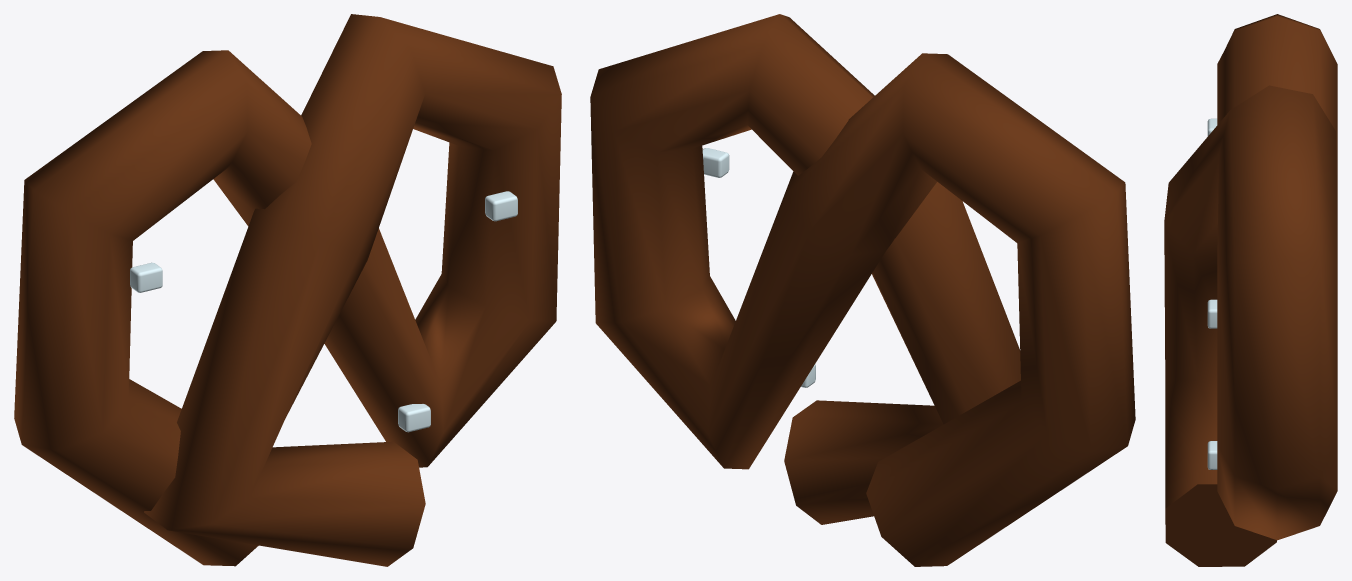
The model's file is pretzel.fbx.
3 views of the same model, side by side, from view 1: azimuth 30°, elevation 25°; view 2: azimuth 150°, elevation 25°; view 3: azimuth 270°, elevation 25° (orthographic). The views are drawn at different scales.
Parts seen in each view (by area): view 1: pretzel; view 2: pretzel; view 3: pretzel.
Boxes of the visible parts, box(x1,y1,x2,y2) form: pretzel: box(14, 14, 561, 566); pretzel: box(590, 14, 1135, 566); pretzel: box(1164, 14, 1337, 566).
Bounding box in the file's own units: 100 × 92.73 × 29.42.
Materials: 1 (1 with a texture image).
